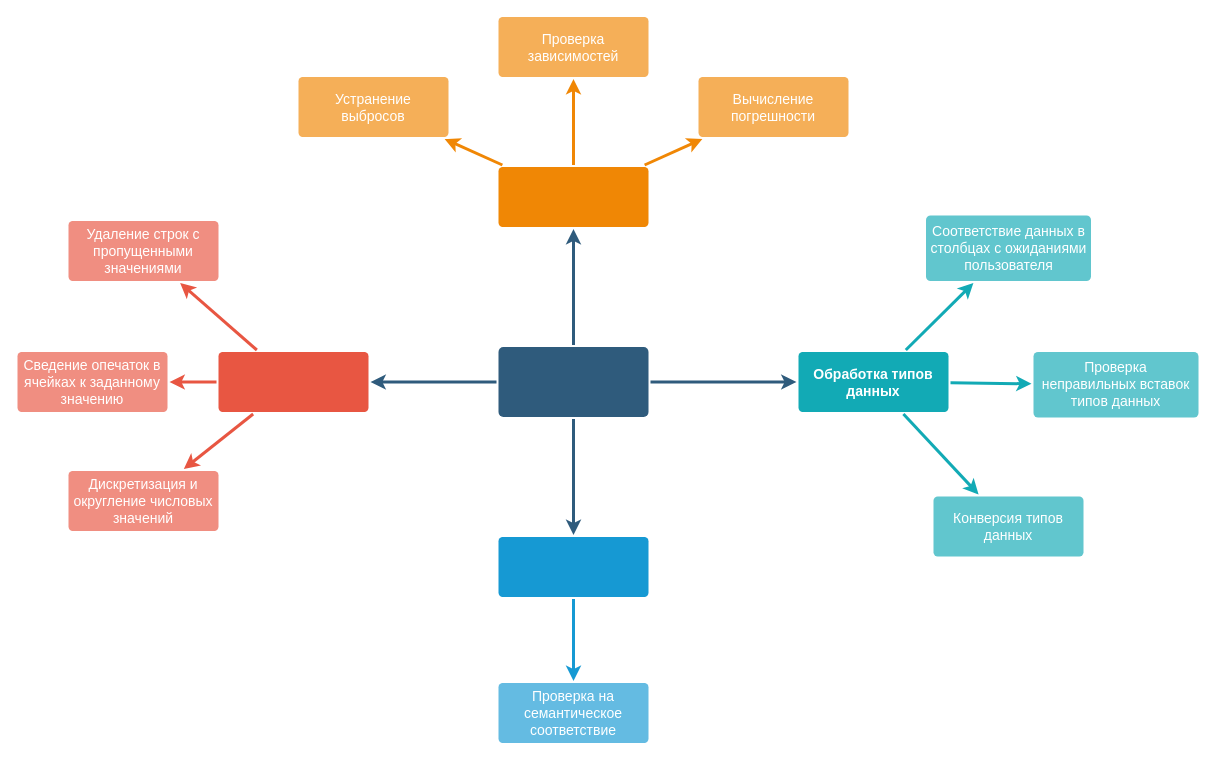
This 1215x760 diagram has some shape labels left out. Here are the shapes that lost their labels. From the top down, the box of each, then its label:
(498, 166, 648, 226): Статистическая обработка
(218, 352, 368, 412): Обработка фактическая
(498, 346, 648, 416): Обработка данных
(498, 536, 648, 596): Структурная обработка (не приоритет)
